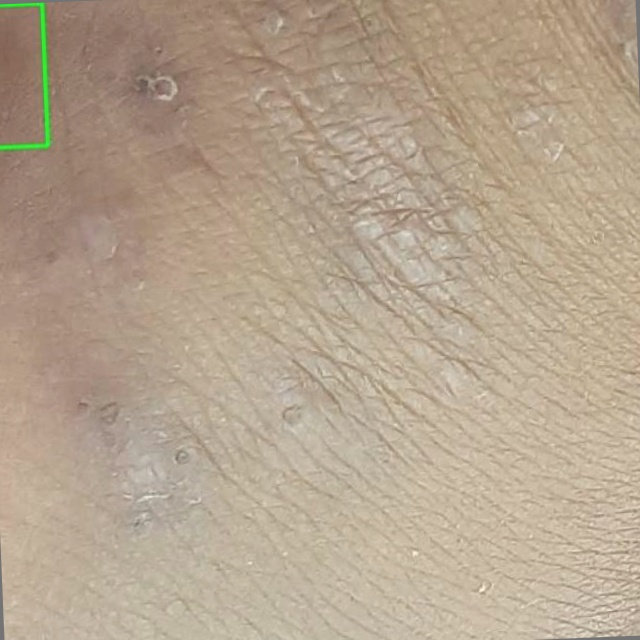Eczema: (0, 3, 47, 147)
